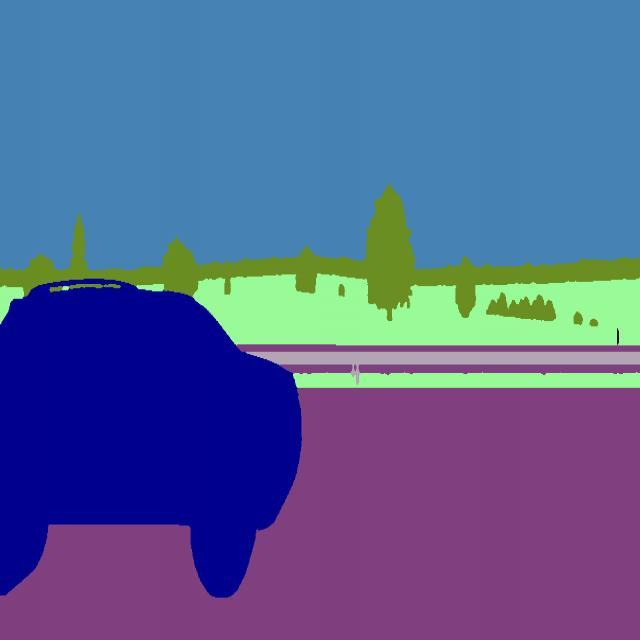unsafe: (0, 273, 305, 604)
